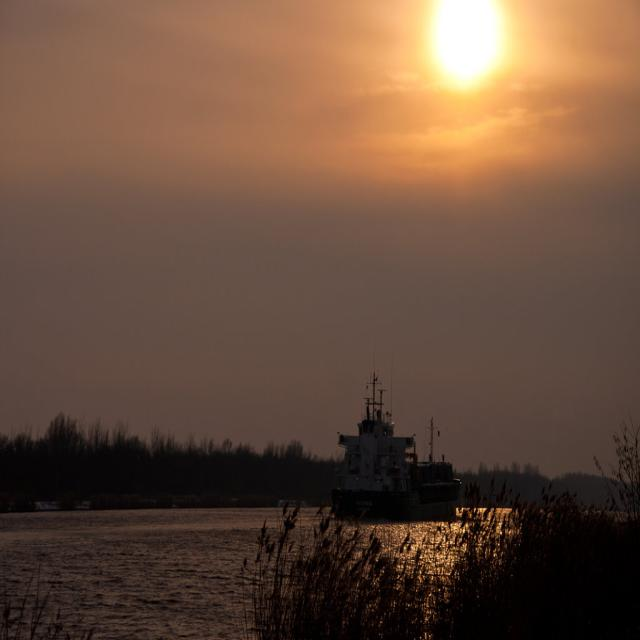Boat: (318, 402, 492, 541)
